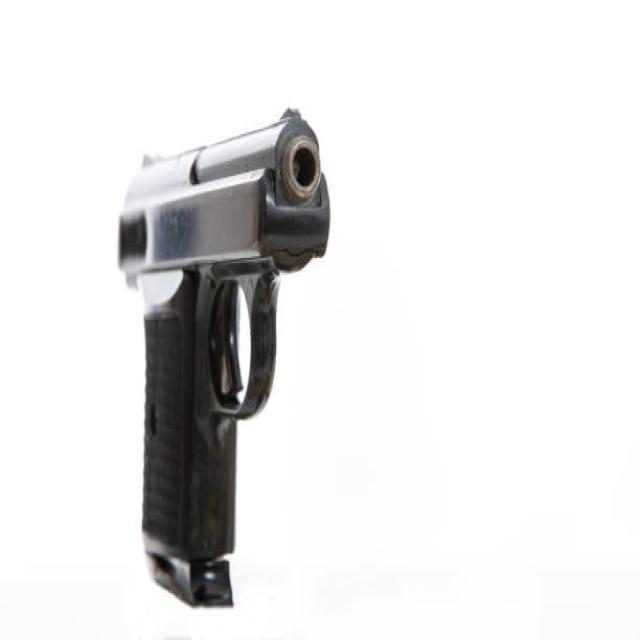pistol: (113, 102, 335, 614)
